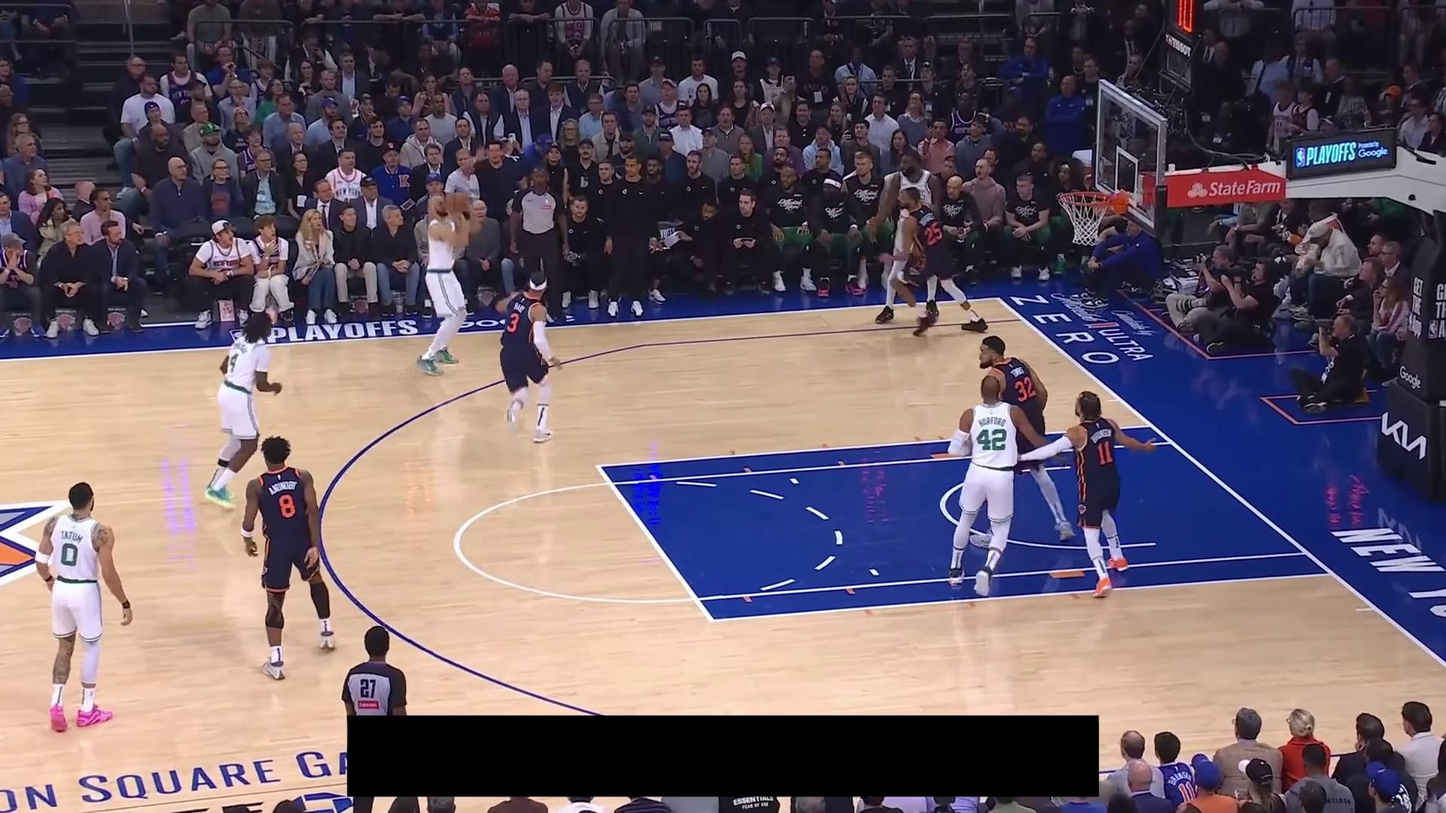ball: (445, 187, 471, 215)
number: (977, 428, 1008, 452), (1014, 376, 1035, 402), (278, 493, 296, 519), (1097, 439, 1114, 466), (924, 221, 943, 245), (61, 543, 78, 567), (227, 352, 239, 375), (506, 313, 520, 332)
player: (1015, 389, 1157, 599), (945, 373, 1056, 599), (35, 481, 133, 734), (240, 434, 338, 681), (969, 334, 1074, 552), (879, 185, 989, 336), (203, 312, 284, 512), (866, 150, 942, 324), (496, 272, 564, 445)
player-in-possession: (418, 186, 479, 376)
referee: (341, 625, 412, 813), (508, 164, 571, 324)
rim: (1057, 190, 1112, 207)
